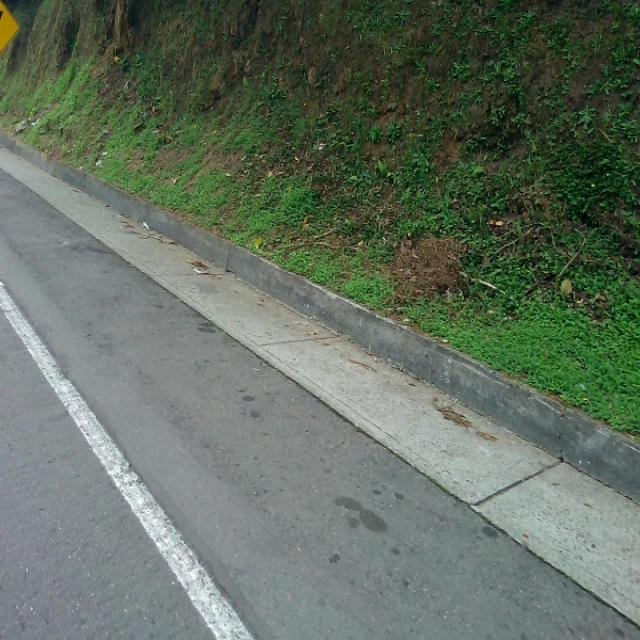DITCH: (19, 55, 638, 638), (1, 136, 639, 638)
